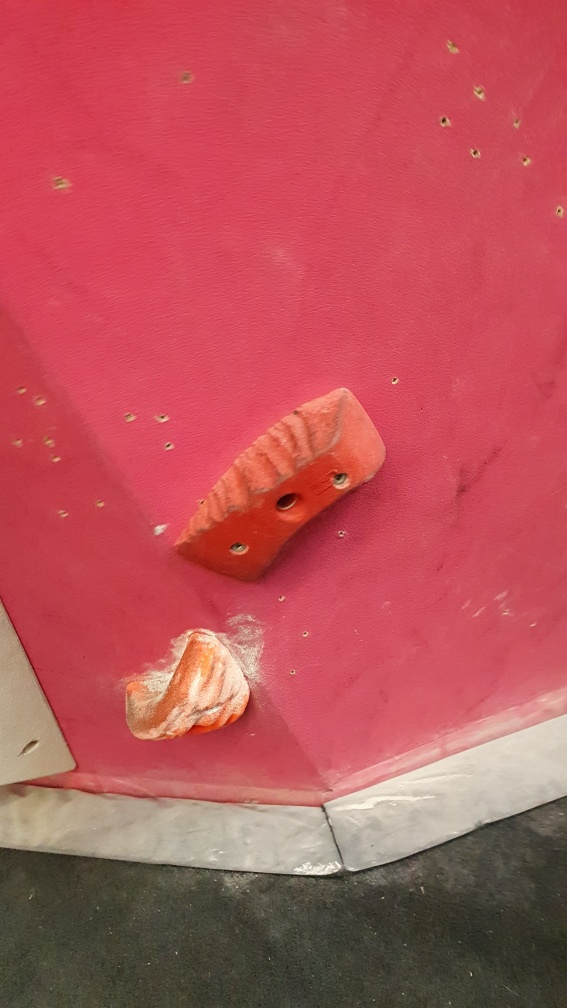Crimp: (169, 384, 389, 589)
Jug: (120, 625, 255, 748)
